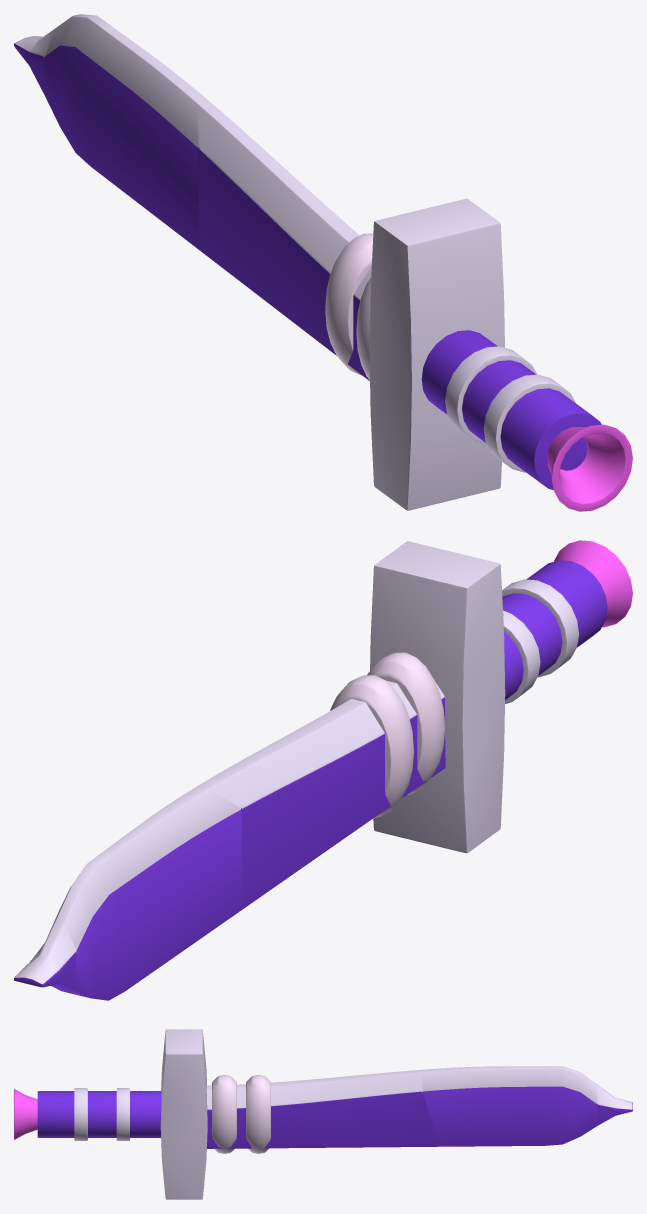
File: Sword_HushedFalchion.glb
The picture shows the model from 3 angles, top to bottom: view 1: azimuth 30°, elevation 25°; view 2: azimuth 150°, elevation 25°; view 3: azimuth 270°, elevation 25°; orthographic projection. The views are drawn at different scales.
Visible parts, largest first — view 1: Sword_HushedFalchion; view 2: Sword_HushedFalchion; view 3: Sword_HushedFalchion.
Part boxes in pixels (bbox=[...]): Sword_HushedFalchion: bbox=[14, 14, 632, 511]; Sword_HushedFalchion: bbox=[14, 540, 632, 1000]; Sword_HushedFalchion: bbox=[14, 1029, 632, 1199].
Size of the model in its own units: 0.096 by 0.26 by 1.
1 material, 1 textured.
